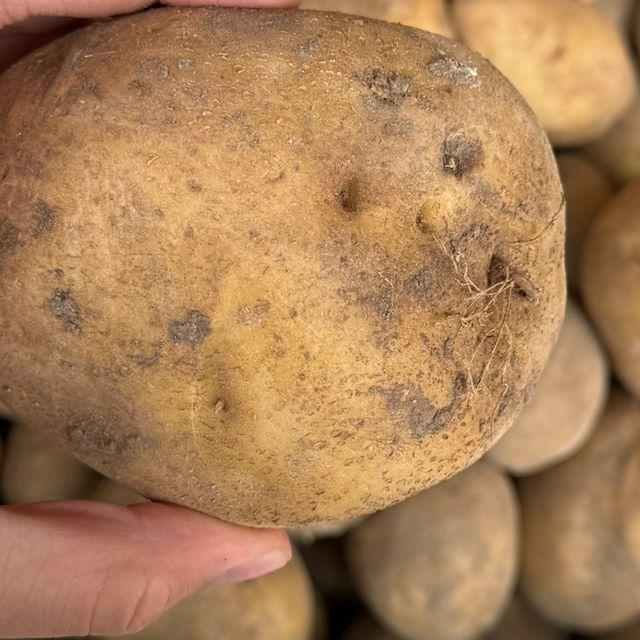potato: (0, 0, 598, 556)
